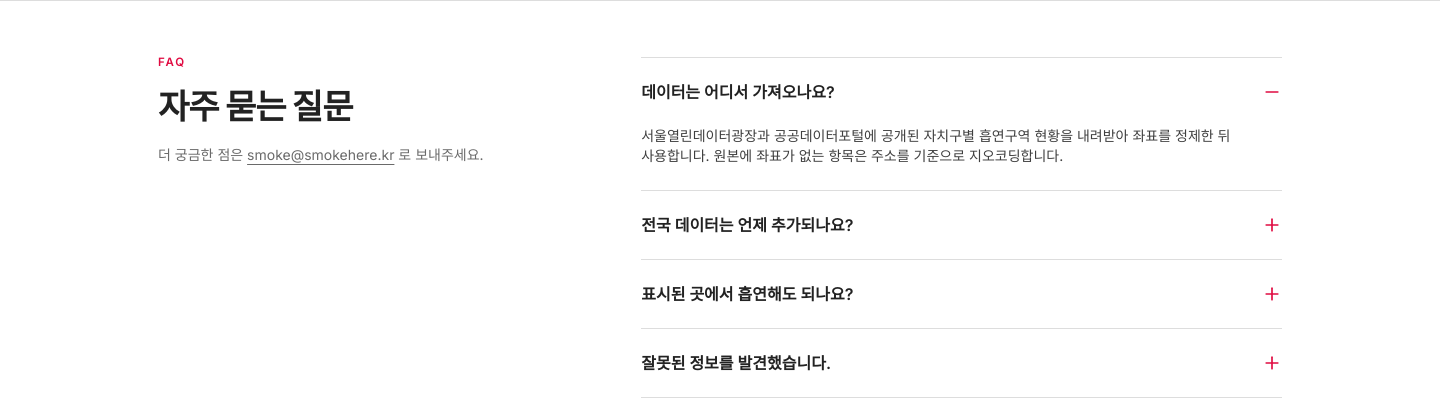
Test: FaqSection › 다른 항목을 열면 먼저 열려 있던 항목이 닫힌다
Click the button "전국 데이터는 언제 추가되나요?" at [747, 225], box 641,191 -> 1282,259
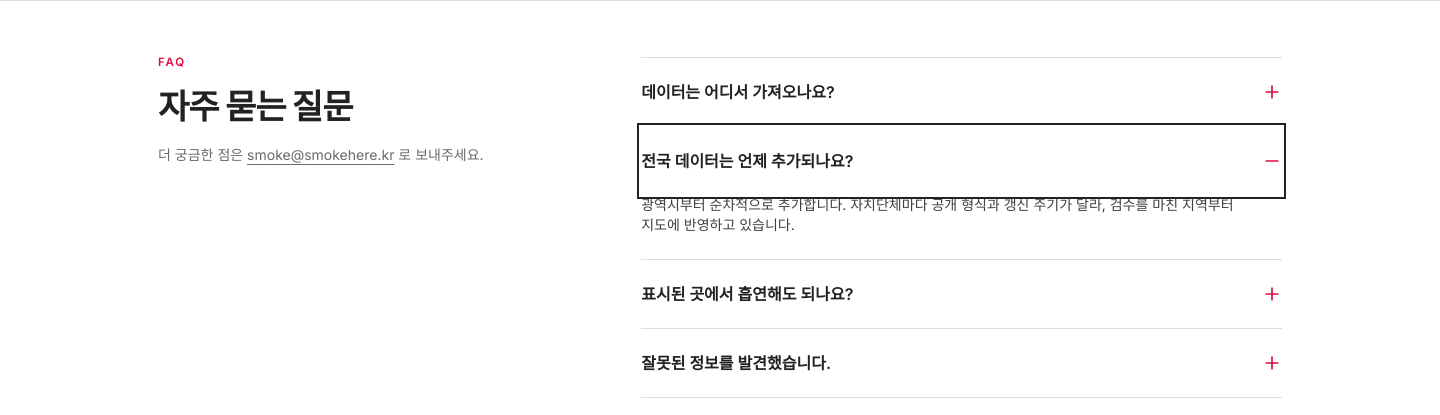
Check: the button "전국 데이터는 언제 추가되나요?" is expanded, box 641,127 -> 1282,195
Check: the button "데이터는 어디서 가져오나요?" is collapsed, box 641,58 -> 1282,126
